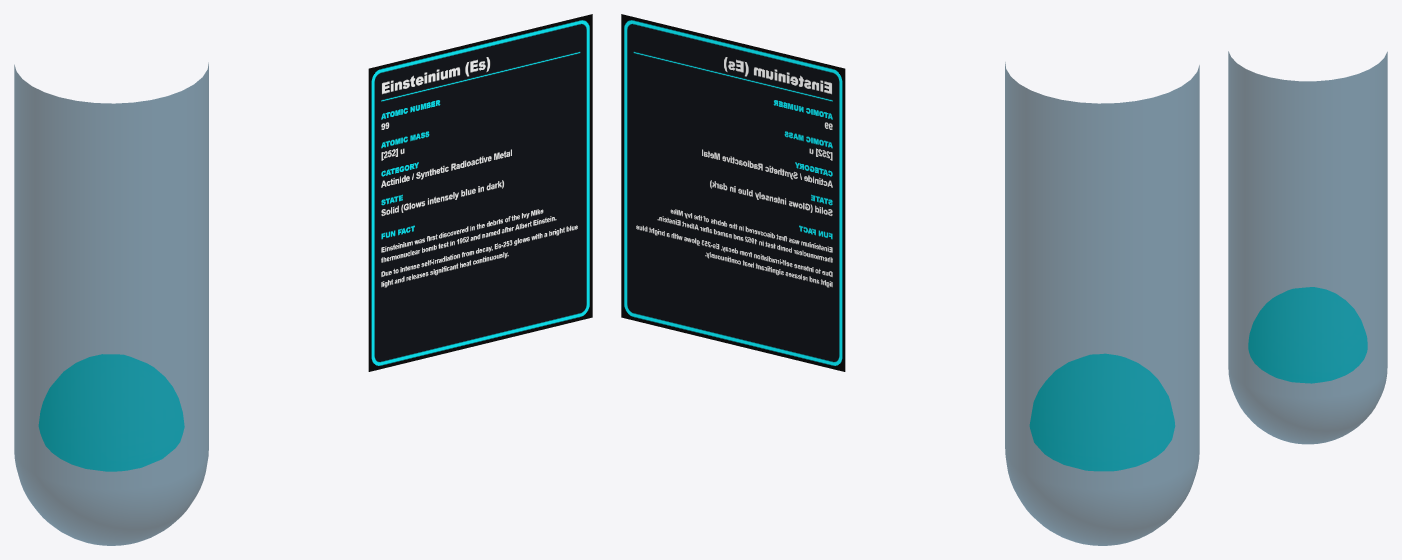
The model's file is einsteinium.glb.
3 renders of one model, left to right at view 1: azimuth 30°, elevation 25°; view 2: azimuth 150°, elevation 25°; view 3: azimuth 270°, elevation 25°, orthographic. The views are drawn at different scales.
Visible parts, largest first — view 1: Mesh_0, Mesh_5, Mesh_2, Mesh_1; view 2: Mesh_0, Mesh_5, Mesh_2, Mesh_1; view 3: Mesh_0, Mesh_2, Mesh_1.
Boxes of the visible parts, x1,y1,x2,y2 form: Mesh_0: [14, 63, 208, 489]; Mesh_5: [368, 14, 592, 371]; Mesh_2: [39, 354, 184, 471]; Mesh_1: [14, 449, 208, 545]; Mesh_0: [1005, 62, 1199, 489]; Mesh_5: [621, 14, 845, 371]; Mesh_2: [1030, 354, 1174, 470]; Mesh_1: [1005, 448, 1199, 545]; Mesh_0: [1228, 51, 1387, 398]; Mesh_2: [1248, 287, 1367, 383]; Mesh_1: [1228, 368, 1387, 444].
Bounding box in the file's own units: 2.04 × 1.63 × 0.6055.
3 materials, 1 textured.
